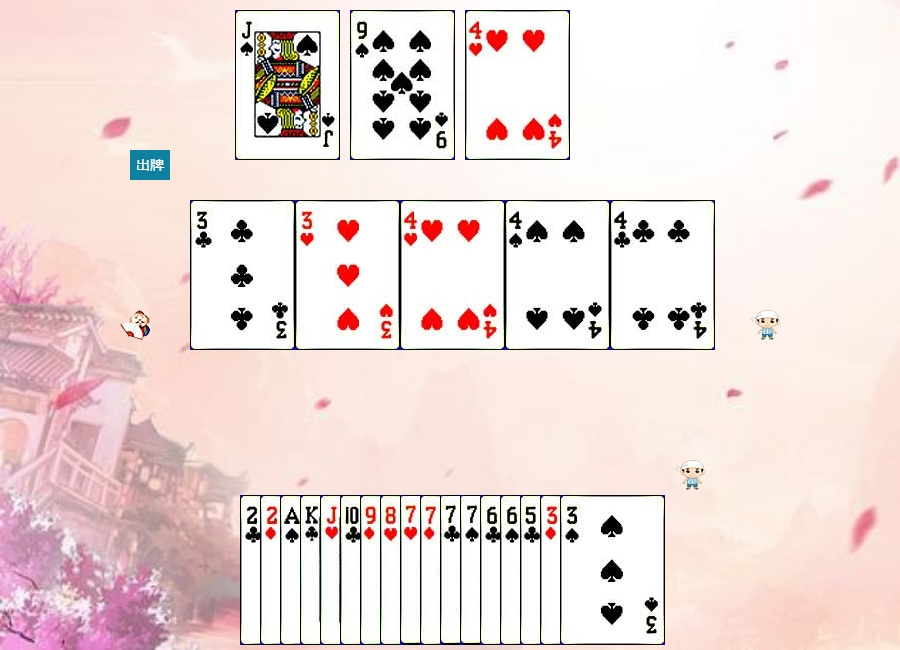10~2: (340, 495, 445, 645)
11~3: (320, 495, 425, 645)
11~4: (235, 10, 340, 160)
13~2: (300, 495, 405, 645)
14~4: (280, 495, 385, 645)
15~1: (260, 495, 365, 645)
15~2: (240, 495, 345, 645)
3~1: (540, 495, 645, 645)
3~2: (190, 200, 295, 350)
3~3: (295, 200, 400, 350)
3~4: (560, 495, 665, 645)
4~2: (610, 200, 715, 350)
4~3: (465, 10, 570, 160), (400, 200, 505, 350)
4~4: (505, 200, 610, 350)
5~2: (520, 495, 625, 645)
6~2: (480, 495, 585, 645)
6~4: (500, 495, 605, 645)
7~1: (420, 495, 525, 645)
7~2: (440, 495, 545, 645)
7~3: (400, 495, 505, 645)
7~4: (460, 495, 565, 645)
8~3: (380, 495, 485, 645)
9~1: (360, 495, 465, 645)
9~4: (350, 10, 455, 160)
